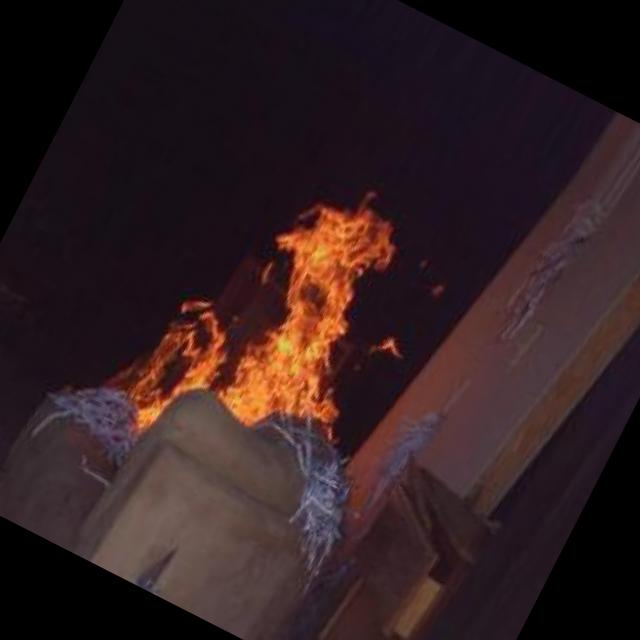fire: (106, 127, 428, 503)
